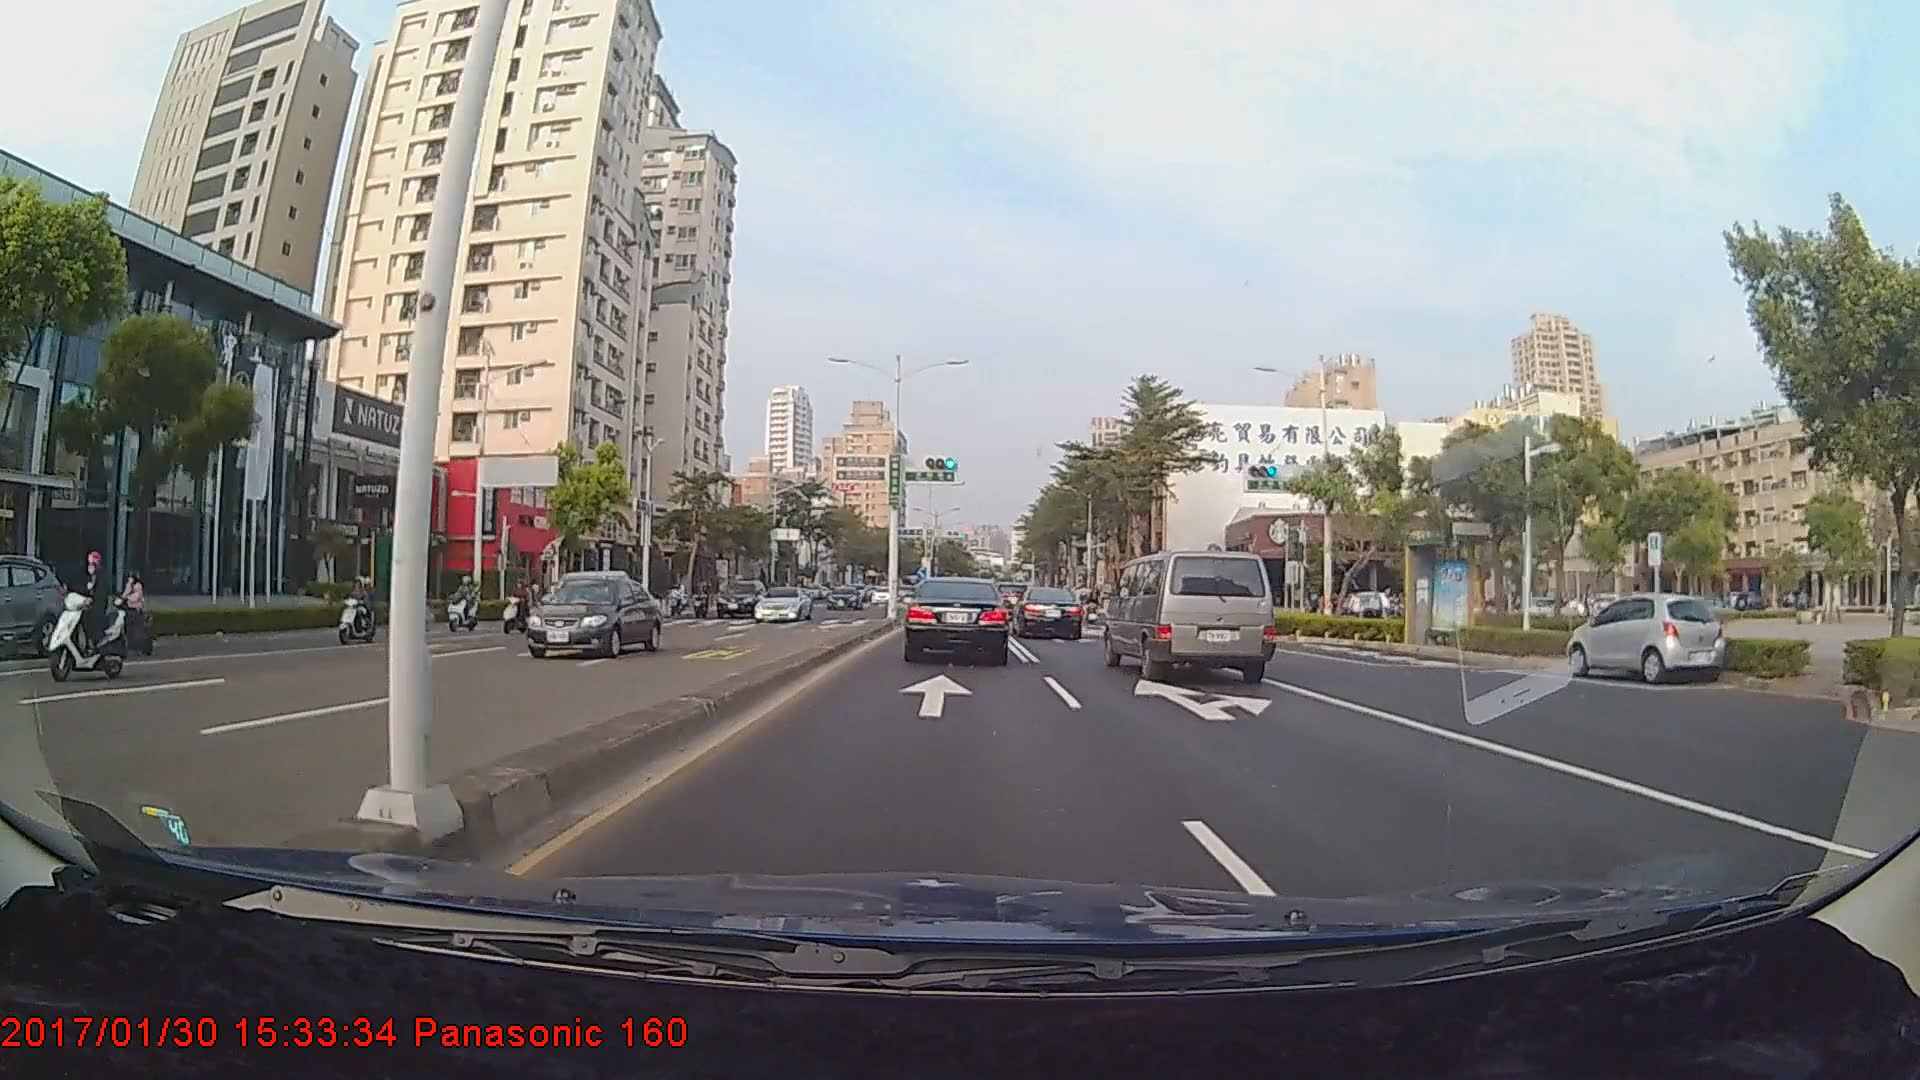rider: (46, 549, 133, 689), (97, 572, 163, 661), (330, 576, 382, 644), (445, 572, 484, 635), (498, 577, 534, 639)
vehicle: (1107, 547, 1277, 687), (1569, 591, 1722, 684), (525, 577, 666, 659), (903, 576, 1007, 664), (0, 564, 79, 651), (531, 569, 632, 628), (1010, 586, 1082, 640), (749, 584, 811, 622), (714, 578, 766, 618), (826, 584, 870, 612)
